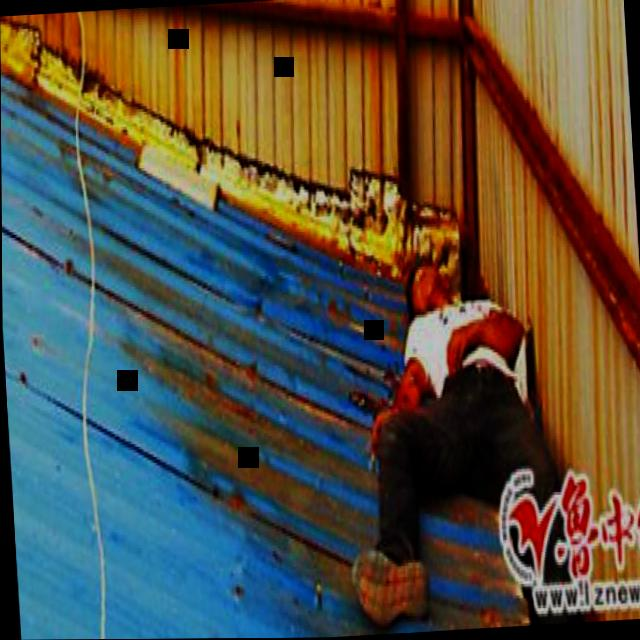Fall-Detected: (317, 217, 591, 635)
